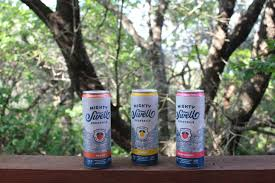can: (75, 87, 117, 170), (124, 86, 166, 168), (171, 87, 211, 171)
